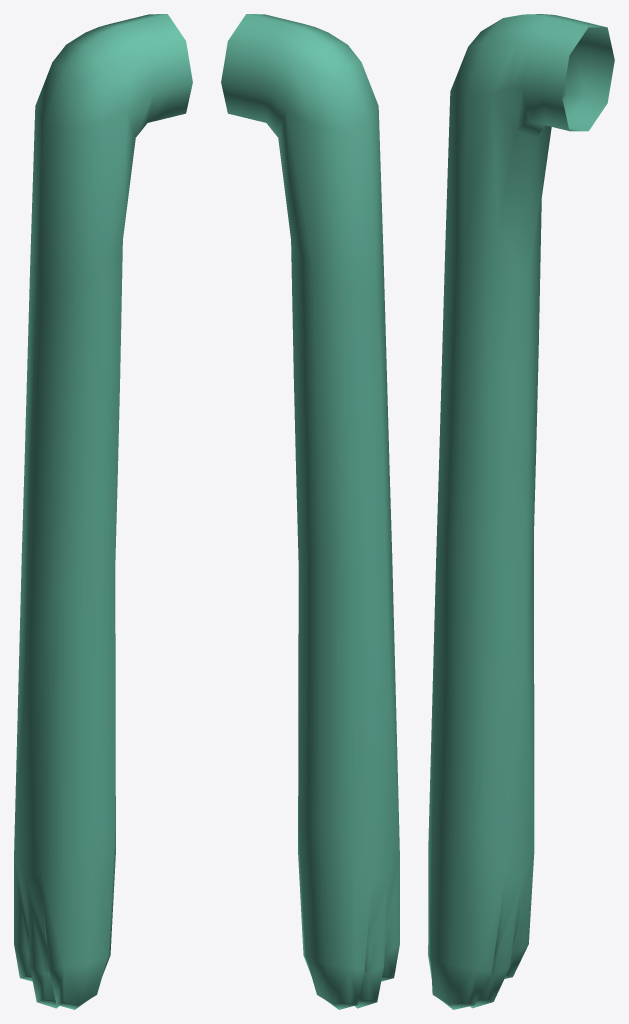
The model's file is BrazoDerechoBMO_obj.obj.
The picture shows the model from 3 angles, left to right: view 1: azimuth 30°, elevation 25°; view 2: azimuth 150°, elevation 25°; view 3: azimuth 330°, elevation 25°; orthographic projection. The views are drawn at different scales.
Visible parts, largest first — view 1: Brazo_Derecho; view 2: Brazo_Derecho; view 3: Brazo_Derecho.
Boxes of the visible parts, x1,y1,x2,y2 form: Brazo_Derecho: (14,14,192,1009); Brazo_Derecho: (221,14,399,1009); Brazo_Derecho: (428,14,614,1009).
Size of the model in its own units: 0.1274 by 0.828 by 0.0814.
